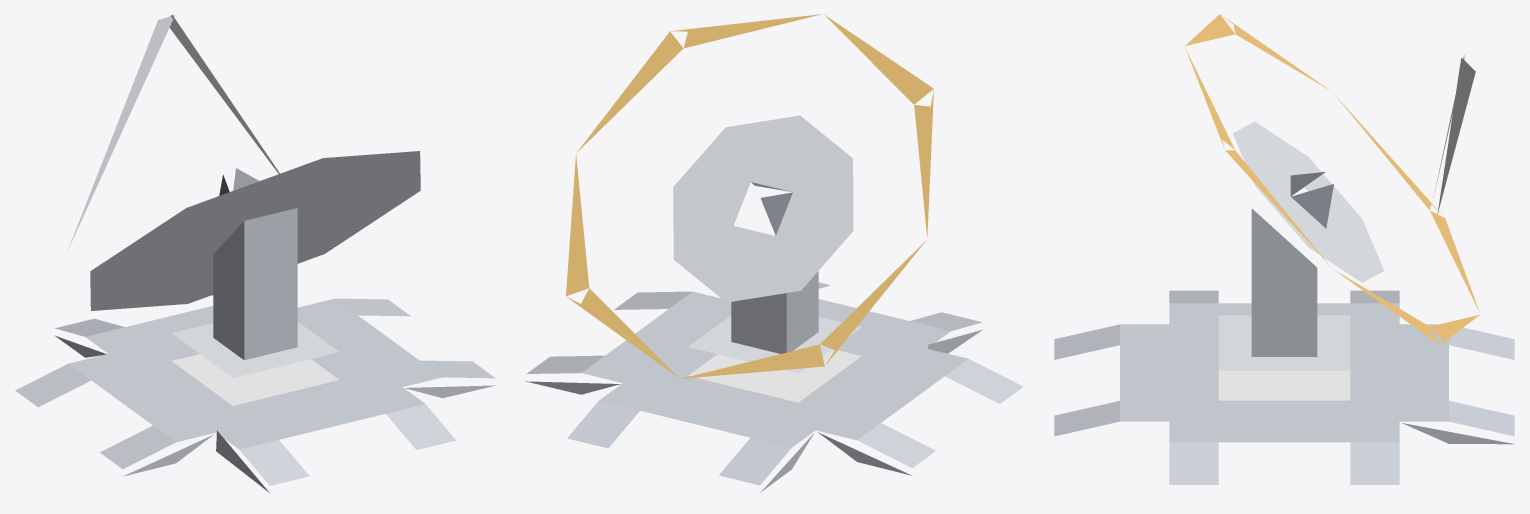
File: satelliteDish_detailed_lod1.glb
The picture shows the model from 3 angles, left to right: view 1: azimuth 30°, elevation 25°; view 2: azimuth 150°, elevation 25°; view 3: azimuth 270°, elevation 25°; orthographic projection. The views are drawn at different scales.
Visible parts, largest first — view 1: satelliteDish_detailed.002; view 2: satelliteDish_detailed.002; view 3: satelliteDish_detailed.002.
Part boxes in pixels (x1=…): satelliteDish_detailed.002: x1=15, y1=14, x2=495, y2=492; satelliteDish_detailed.002: x1=526, y1=14, x2=1023, y2=492; satelliteDish_detailed.002: x1=1054, y1=14, x2=1514, y2=484.
Size of the model in its own units: 0.703 by 0.5982 by 0.703.
